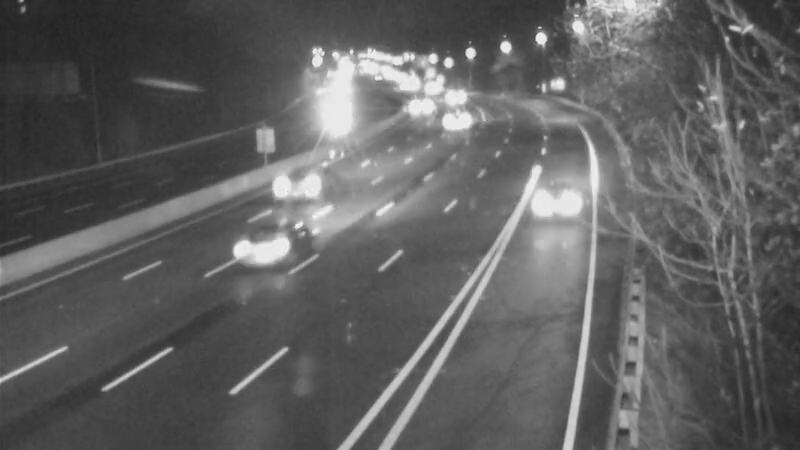vehicle: (504, 168, 584, 248), (255, 147, 335, 227), (224, 205, 304, 285), (433, 72, 483, 122), (390, 83, 440, 133), (431, 92, 481, 142)
